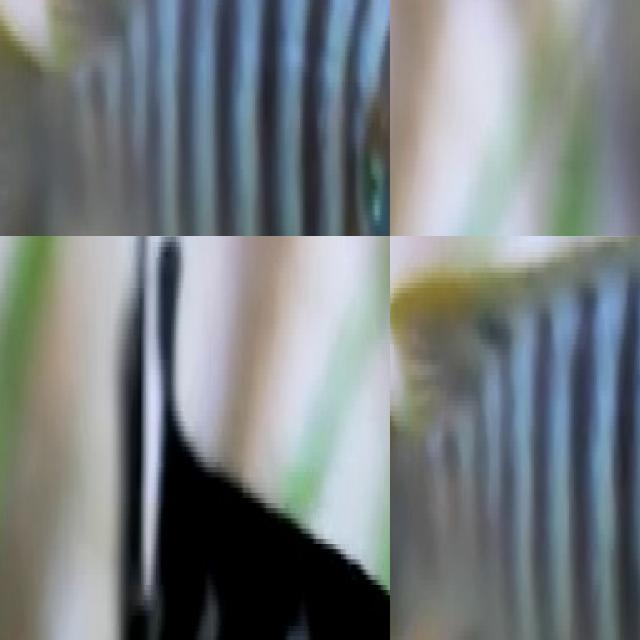fish: (390, 236, 640, 640), (0, 0, 390, 236)
